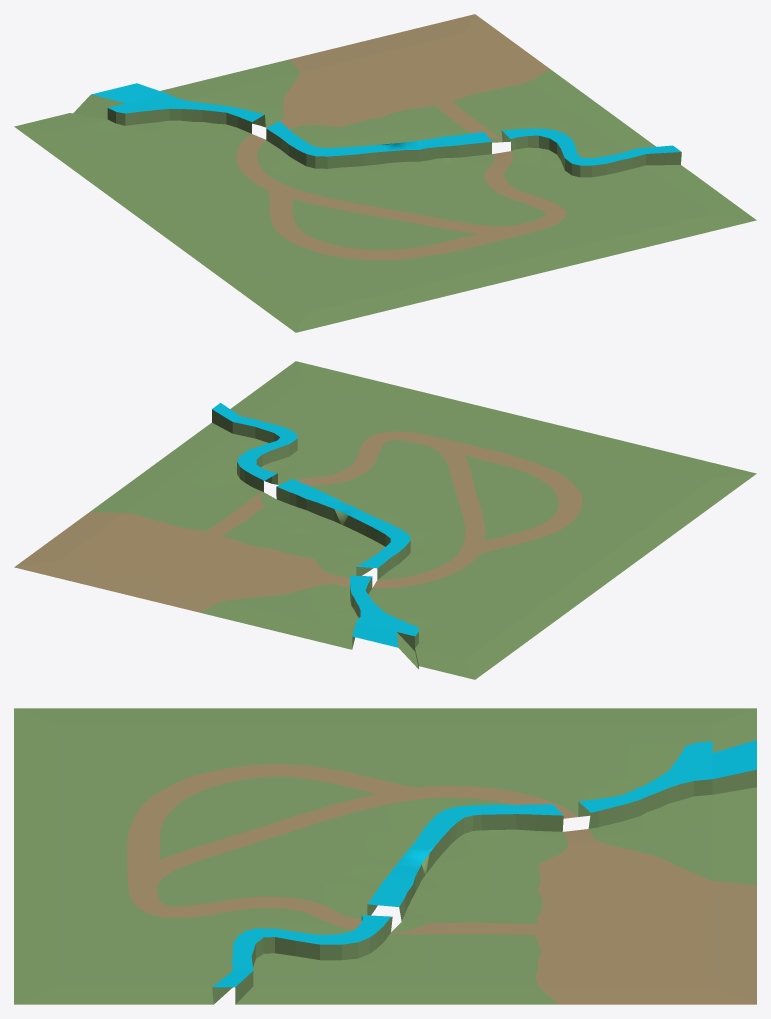
Rendered from EnvTerrain_Hitbox.fbx.
The picture shows the model from 3 angles, top to bottom: view 1: azimuth 30°, elevation 25°; view 2: azimuth 150°, elevation 25°; view 3: azimuth 270°, elevation 25°; orthographic projection. The views are drawn at different scales.
Visible parts, largest first — view 1: EnvTerrain_Hitbox; view 2: EnvTerrain_Hitbox; view 3: EnvTerrain_Hitbox.
Part boxes in pixels (box(x1,y1,x2,y2)): EnvTerrain_Hitbox: box(14, 14, 756, 332); EnvTerrain_Hitbox: box(14, 361, 756, 679); EnvTerrain_Hitbox: box(14, 708, 756, 1004).
Size of the model in its own units: 5139 by 182 by 5440.
